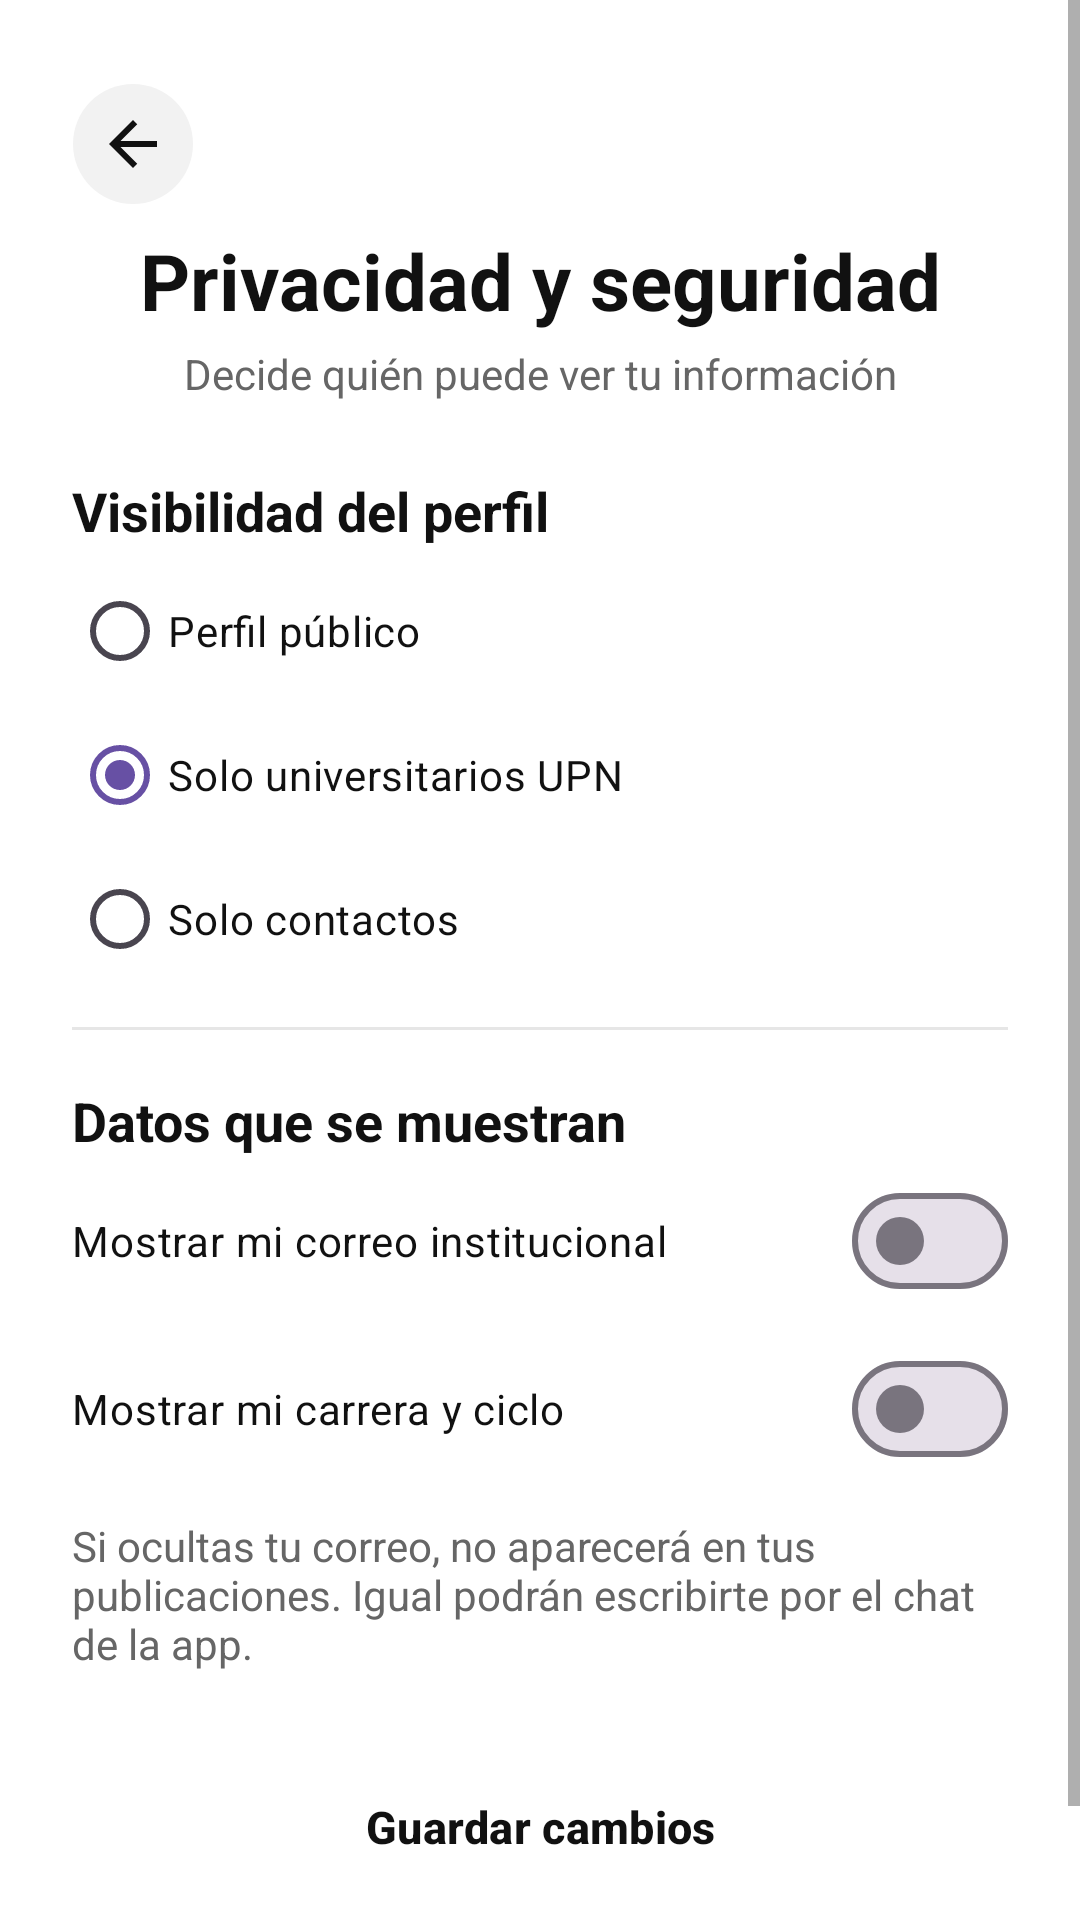

Screen size 1080*1920. Icon name, then its box in pixels as (x1, y1, x2, y2):
Regresar: (73, 84, 193, 204)
